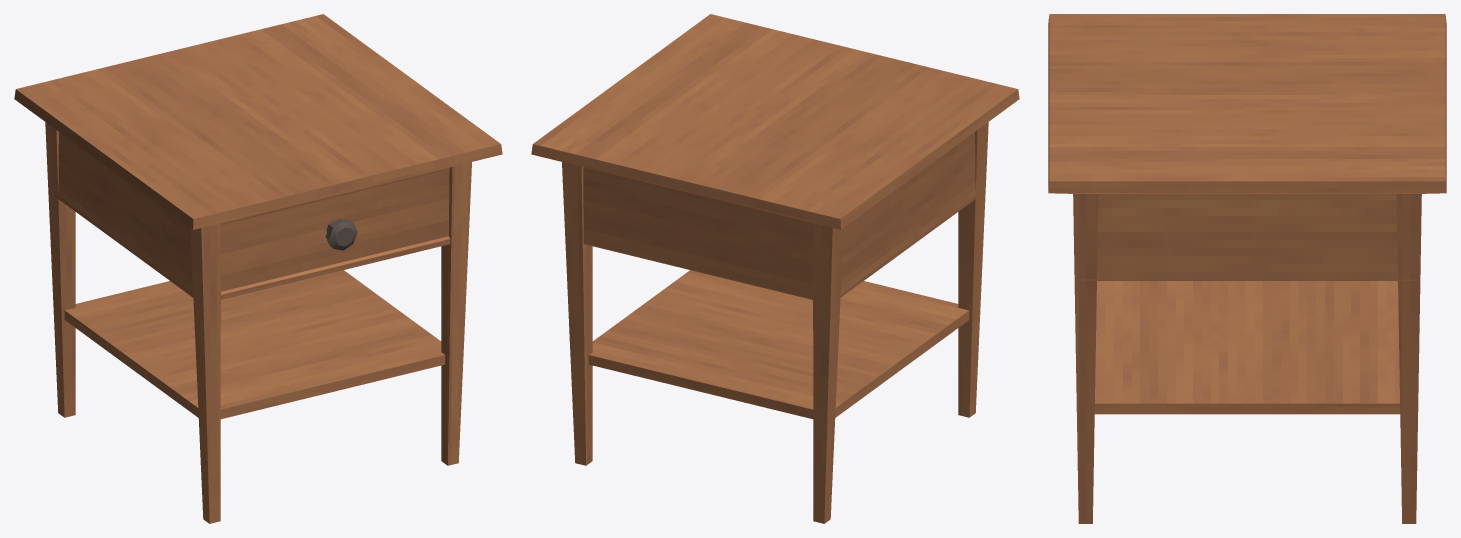
The model's file is nightstand.glb.
3 views of the same model, side by side, from view 1: azimuth 30°, elevation 25°; view 2: azimuth 150°, elevation 25°; view 3: azimuth 270°, elevation 25° (orthographic). The views are drawn at different scales.
Parts seen in each view (by area): view 1: NightStand_2; view 2: NightStand_2; view 3: NightStand_2.
Part boxes in pixels (x1,y1,x2,y2): NightStand_2: (14,14,502,523); NightStand_2: (531,14,1019,523); NightStand_2: (1048,14,1446,523).
Bounding box in the file's own units: 0.9522 × 0.9453 × 0.9522.
2 materials, 1 textured.
